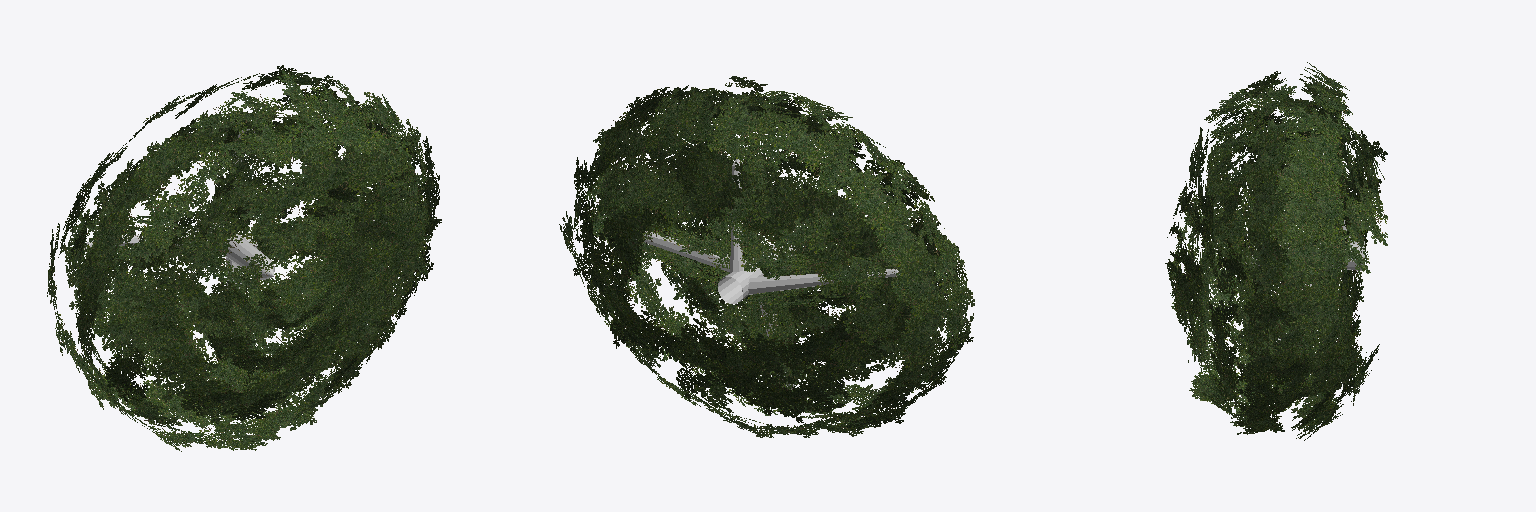
3 renders of one model, left to right at view 1: azimuth 30°, elevation 25°; view 2: azimuth 150°, elevation 25°; view 3: azimuth 270°, elevation 25°, orthographic.
Visible parts, largest first — view 1: Plane, Plane.003, Plane.002, Plane.001, Cylinder; view 2: Plane, Plane.002, Plane.003, Plane.001, Circle, Cylinder; view 3: Plane, Plane.002, Plane.003, Plane.001.
Part boxes in pixels (x1,y1,x2,y2): Plane: (47,65,441,428); Plane.003: (94,111,429,450); Plane.002: (75,70,439,451); Plane.001: (77,104,410,427); Cylinder: (196,220,274,279); Plane: (559,85,959,437); Plane.002: (585,76,974,427); Plane.003: (638,88,967,410); Plane.001: (613,102,944,419); Circle: (601,145,899,389); Cylinder: (718,243,795,303); Plane: (1165,62,1387,440); Plane.002: (1227,71,1297,434); Plane.003: (1189,88,1258,417); Plane.001: (1258,98,1326,417).
Size of the model in its own units: 308 by 262 by 157.
2 materials, 1 textured.